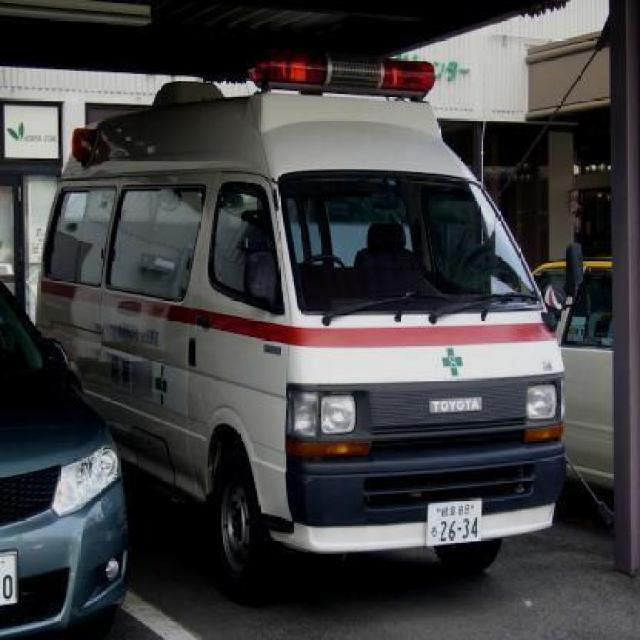emergency: (34, 51, 574, 594)
